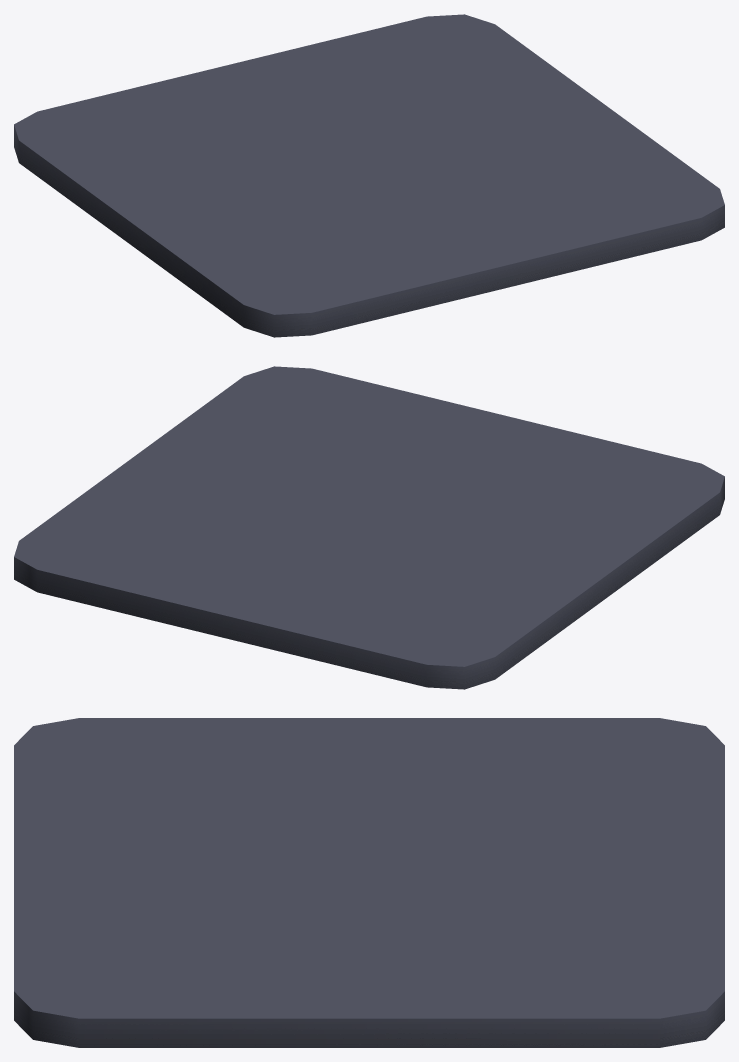
The model's file is architecture.ceiling.building_roof_flat_patch_01.glb.
3 views of the same model, one above another, from view 1: azimuth 30°, elevation 25°; view 2: azimuth 150°, elevation 25°; view 3: azimuth 270°, elevation 25° (orthographic). The views are drawn at different scales.
Parts seen in each view (by area): view 1: roof-flat-patch; view 2: roof-flat-patch; view 3: roof-flat-patch.
Part boxes in pixels (x1,y1,x2,y2): roof-flat-patch: (14, 14, 724, 337); roof-flat-patch: (14, 366, 724, 689); roof-flat-patch: (14, 718, 724, 1047).
Bounding box in the file's own units: 1.1 × 0.05 × 1.1.
Materials: 1 (1 with a texture image).
